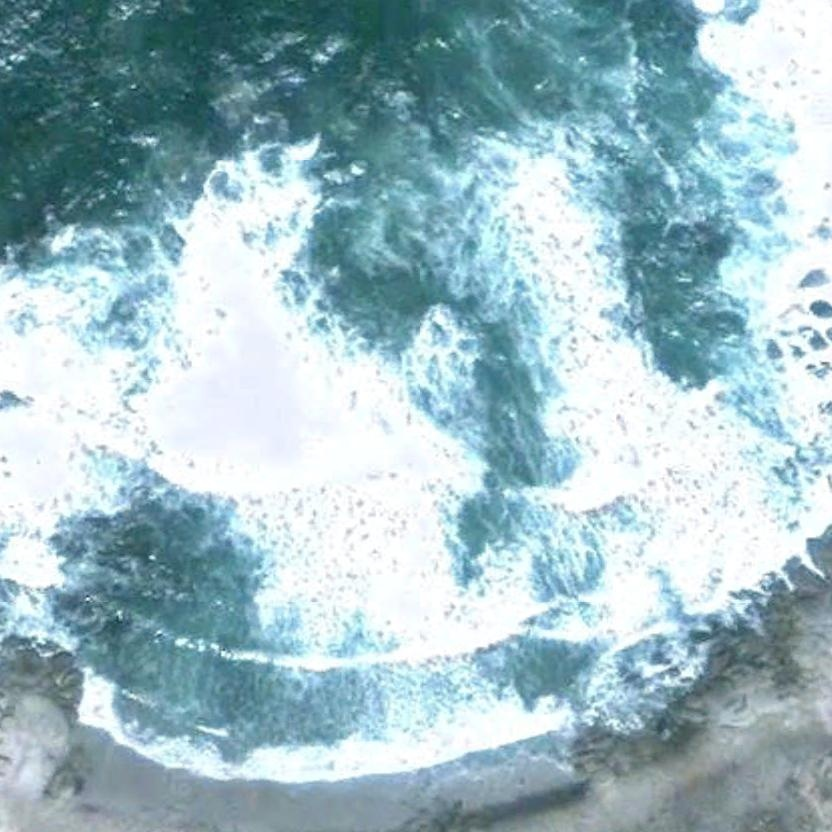rip_current: (258, 95, 631, 573)
